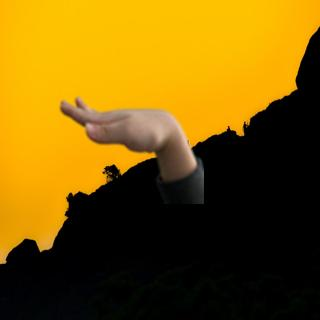Wait: (55, 92, 188, 159)
